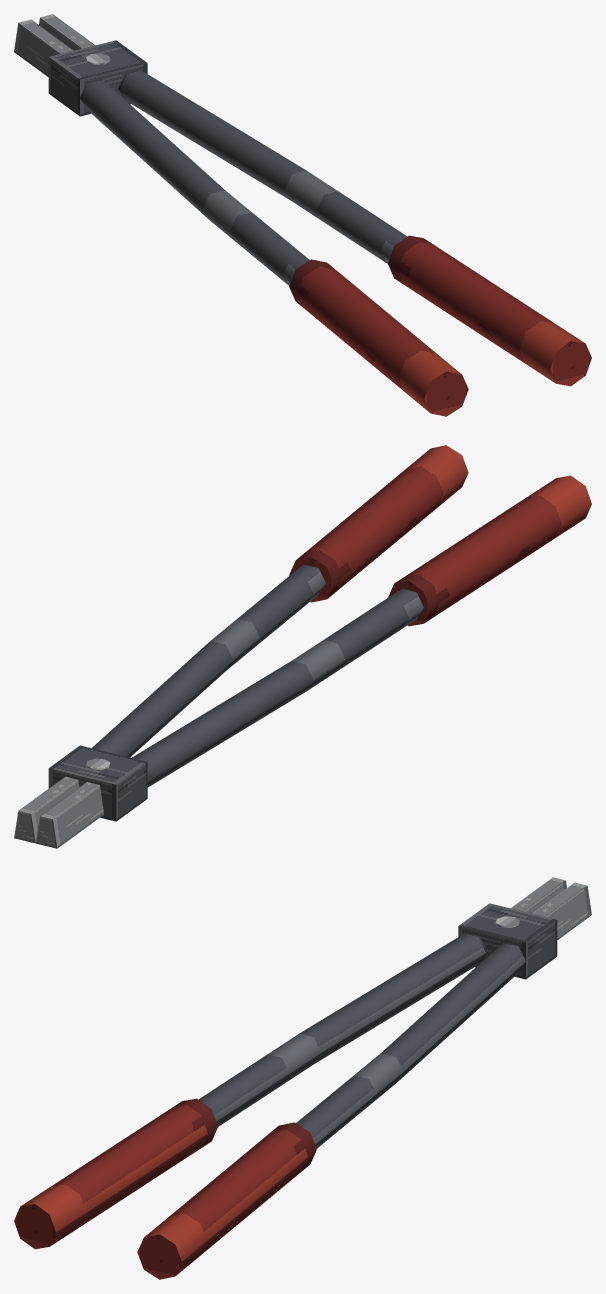
Rendered from INV_BoltCutters.glb.
3 views of the same model, one above another, from view 1: azimuth 30°, elevation 25°; view 2: azimuth 150°, elevation 25°; view 3: azimuth 330°, elevation 25° (orthographic).
Parts seen in each view (by area): view 1: INV_BoltCutters_Mesh; view 2: INV_BoltCutters_Mesh; view 3: INV_BoltCutters_Mesh.
Part boxes in pixels (x1,y1,x2,y2): INV_BoltCutters_Mesh: (14, 14, 591, 416); INV_BoltCutters_Mesh: (14, 445, 591, 848); INV_BoltCutters_Mesh: (14, 877, 591, 1279).
Size of what is drawn, in the model's own units: 0.124 by 0.032 by 0.6058.
1 material, 1 textured.
